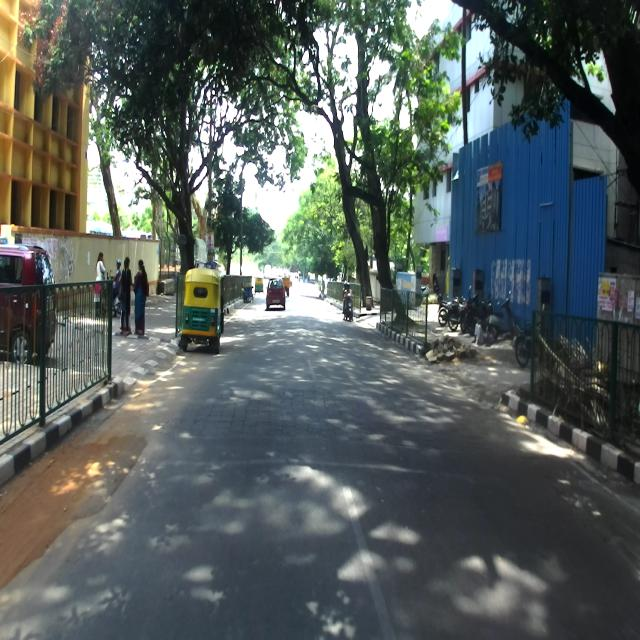auto ahead at: (186, 269, 223, 356)
